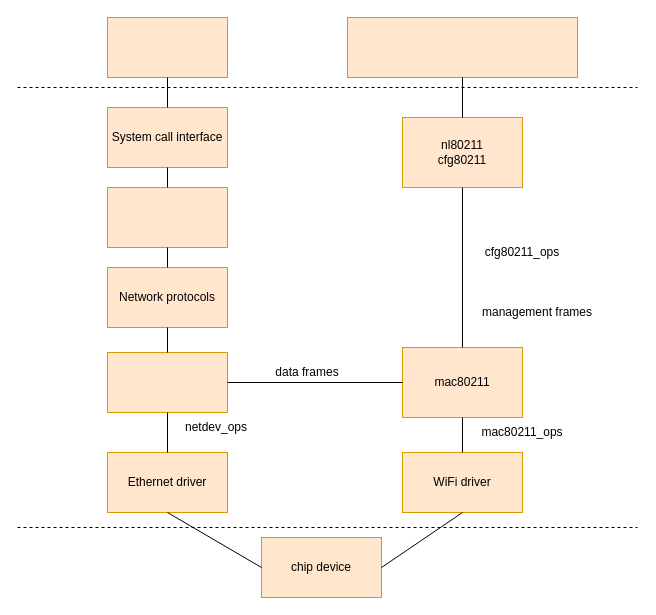
This 656x615 diagram has some shape labels left out. The shapes that lost their labels are listed below. From the top down, each one's centre as x and y in pixels, then its label:
At [167,47]: "Data Application".
At [462,47]: "Management e.g. wap_supplicant hostapd iw etc".
At [167,217]: "Socket layer (upper protocol)".
At [167,382]: "Device layer (net_dev)".
